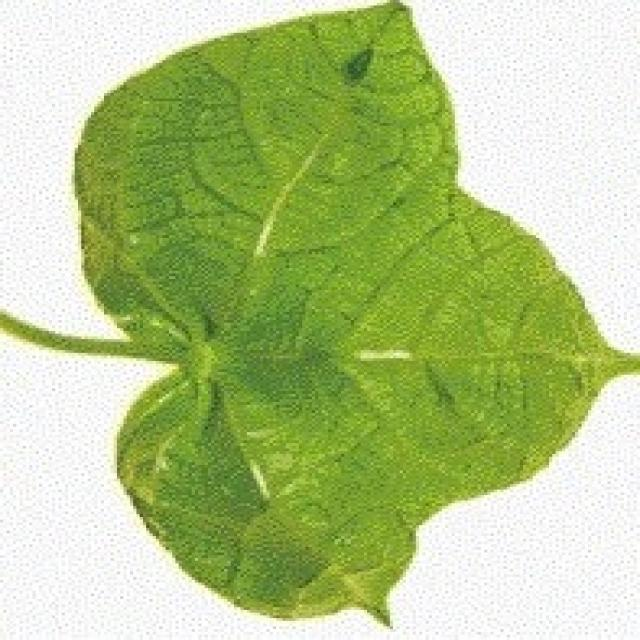Leaf Curl Virus: (124, 96, 496, 510)
